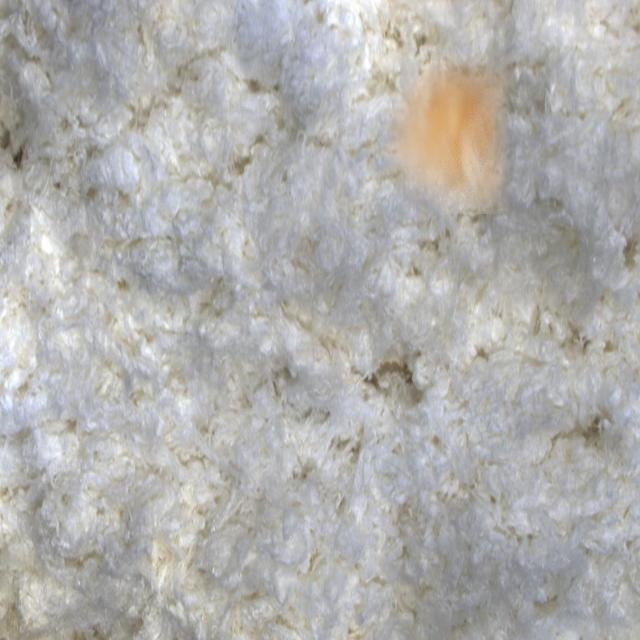dust: (384, 48, 516, 214)
